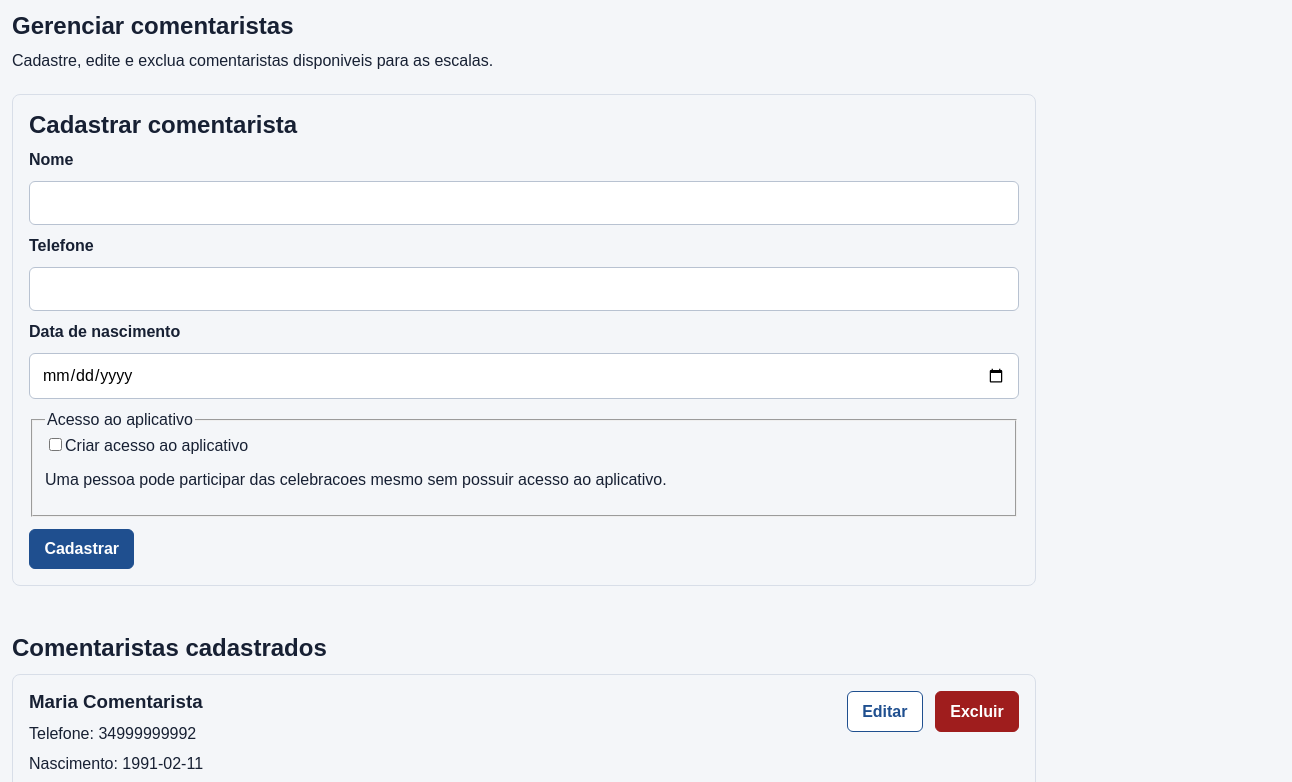
Scenario: CommentatorManagementComponent › creation without access › should not submit invalid forms and should mark cadastral fields as touched
Click the button "Cadastrar". click: (82, 549)
box: [29,529,134,569]
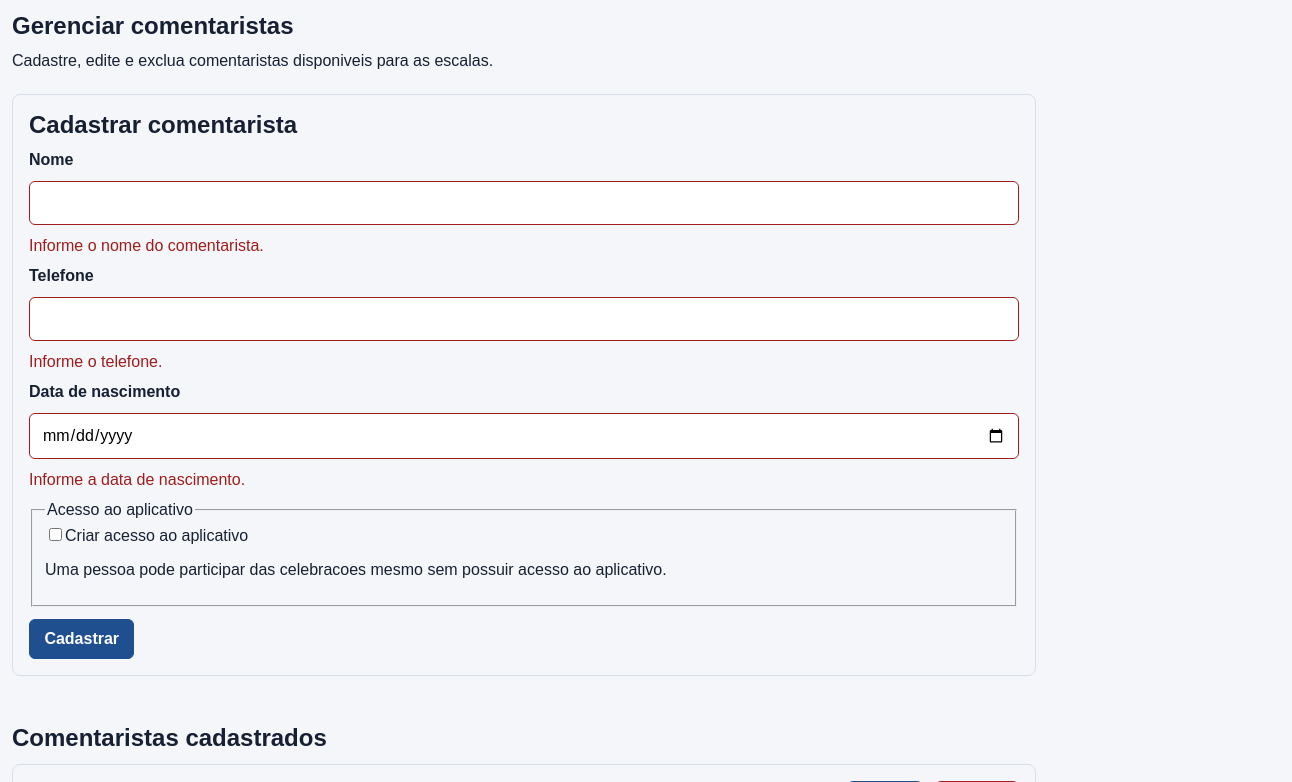
Expected: the text "Informe o nome do comentarista." is shown, [29,237,264,254]
Expected: the text "Informe o telefone." is shown, [29,353,162,370]
Expected: the text "Informe a data de nascimento." is shown, [29,471,245,488]
